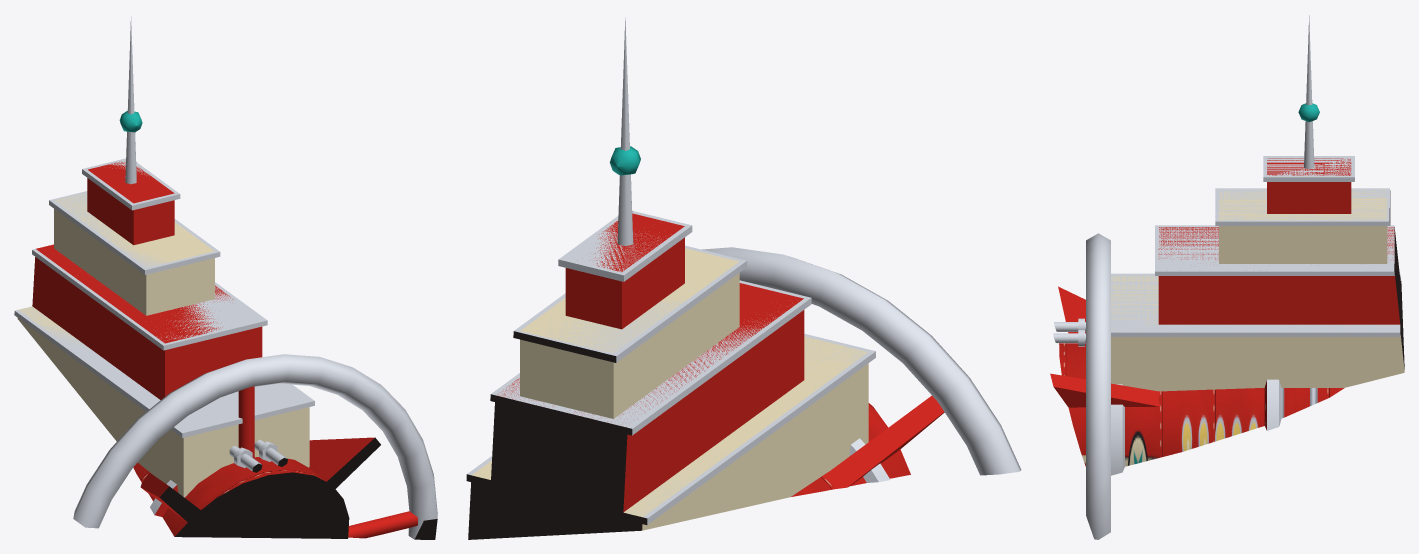
File: victory_debris4.obj
The picture shows the model from 3 angles, left to right: view 1: azimuth 30°, elevation 25°; view 2: azimuth 150°, elevation 25°; view 3: azimuth 270°, elevation 25°; orthographic projection. The views are drawn at different scales.
Parts seen in each view (by area): view 1: collar, bridge1, hull, bridge0, bridge2, bridge_trim0, bridge3, bridge_trim1, bridge_trim2, fin45, collar_strut, fin315 (+3 smaller); view 2: bridge1, bridge0, bridge2, collar, bridge3, bridge_trim1, bridge_trim2, bridge_trim0, bridge_trim3, fin315, hull, mast (+1 smaller); view 3: bridge0, bridge1, hull, bridge2, collar, bridge_trim0, bridge_trim1, bridge_trim2, bridge3, bridge_trim3, fin45, mast (+2 smaller).
Boxes of the visible parts, x1=… form: collar: x1=73, y1=354, x2=437, y2=539; bridge1: x1=32, y1=244, x2=262, y2=399; hull: x1=133, y1=457, x2=349, y2=538; bridge0: x1=17, y1=306, x2=309, y2=497; bridge2: x1=54, y1=193, x2=214, y2=315; bridge_trim0: x1=14, y1=306, x2=314, y2=437; bridge3: x1=87, y1=161, x2=174, y2=245; bridge_trim1: x1=32, y1=249, x2=267, y2=350; bridge_trim2: x1=49, y1=191, x2=220, y2=274; fin45: x1=309, y1=437, x2=380, y2=500; collar_strut: x1=238, y1=386, x2=417, y2=538; fin315: x1=140, y1=472, x2=209, y2=529; bridge1: x1=491, y1=283, x2=804, y2=512; bridge0: x1=468, y1=336, x2=868, y2=539; bridge2: x1=520, y1=248, x2=739, y2=418; collar: x1=702, y1=247, x2=1021, y2=475; bridge3: x1=565, y1=213, x2=684, y2=329; bridge_trim1: x1=490, y1=280, x2=811, y2=435; bridge_trim2: x1=513, y1=245, x2=746, y2=362; bridge_trim0: x1=466, y1=333, x2=875, y2=524; bridge_trim3: x1=558, y1=211, x2=692, y2=281; fin315: x1=823, y1=395, x2=944, y2=488; hull: x1=791, y1=403, x2=910, y2=496; mast: x1=617, y1=17, x2=633, y2=246; bridge0: x1=1111, y1=275, x2=1404, y2=391; bridge1: x1=1158, y1=227, x2=1400, y2=324; hull: x1=1059, y1=343, x2=1344, y2=475; bridge2: x1=1219, y1=189, x2=1387, y2=263; collar: x1=1086, y1=233, x2=1110, y2=539; bridge_trim0: x1=1111, y1=273, x2=1400, y2=336; bridge_trim1: x1=1155, y1=225, x2=1394, y2=275; bridge_trim2: x1=1215, y1=188, x2=1390, y2=225; bridge3: x1=1267, y1=158, x2=1351, y2=213; bridge_trim3: x1=1263, y1=156, x2=1354, y2=181; fin45: x1=1050, y1=373, x2=1160, y2=407; mast: x1=1304, y1=15, x2=1314, y2=169.
Bounding box in the file's own units: 31.85 × 40.54 × 29.46.
Materials: 6 (1 with a texture image).
